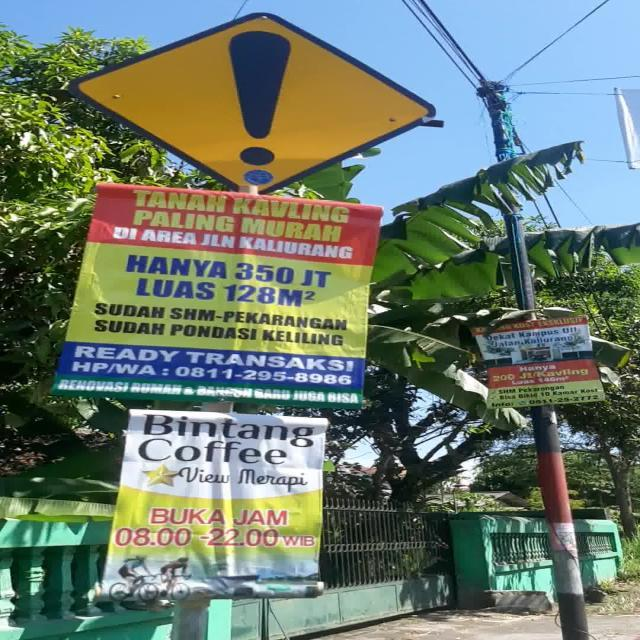Hati-Hati: (68, 11, 438, 195)
